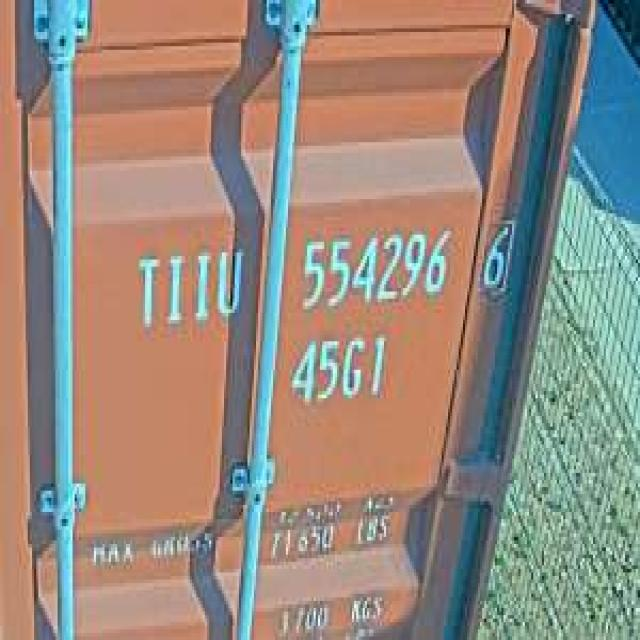dv: (478, 208, 516, 305)
owner: (128, 238, 245, 338)
serial: (294, 217, 452, 313)
size: (286, 327, 388, 413)
